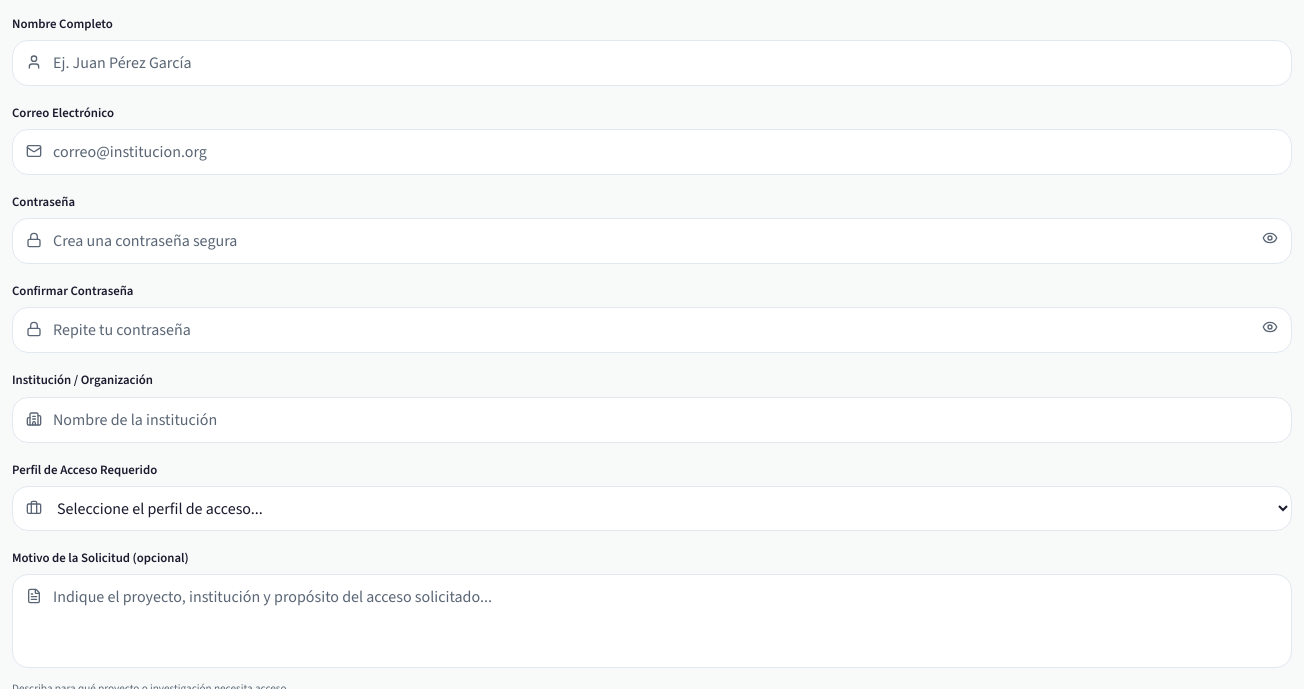
Test case: SolicitarAccesoForm — validación › una contraseña débil es rechazada aunque no esté vacía
Type "abc" into the password field labelled "Contraseña" at {"x": 652, "y": 241}, box [12,218,1292,264]
(page scrolled)
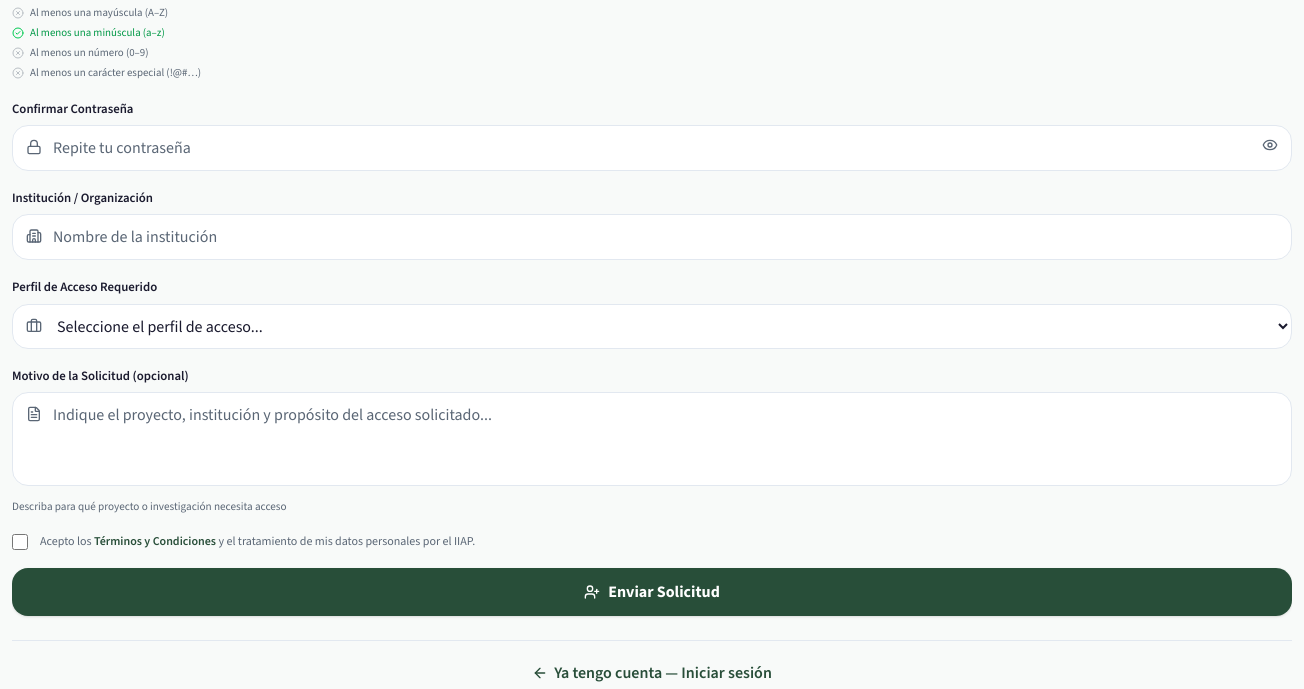
Click the button "Enviar Solicitud" at {"x": 652, "y": 592}, box [12,568,1292,616]
(page scrolled)
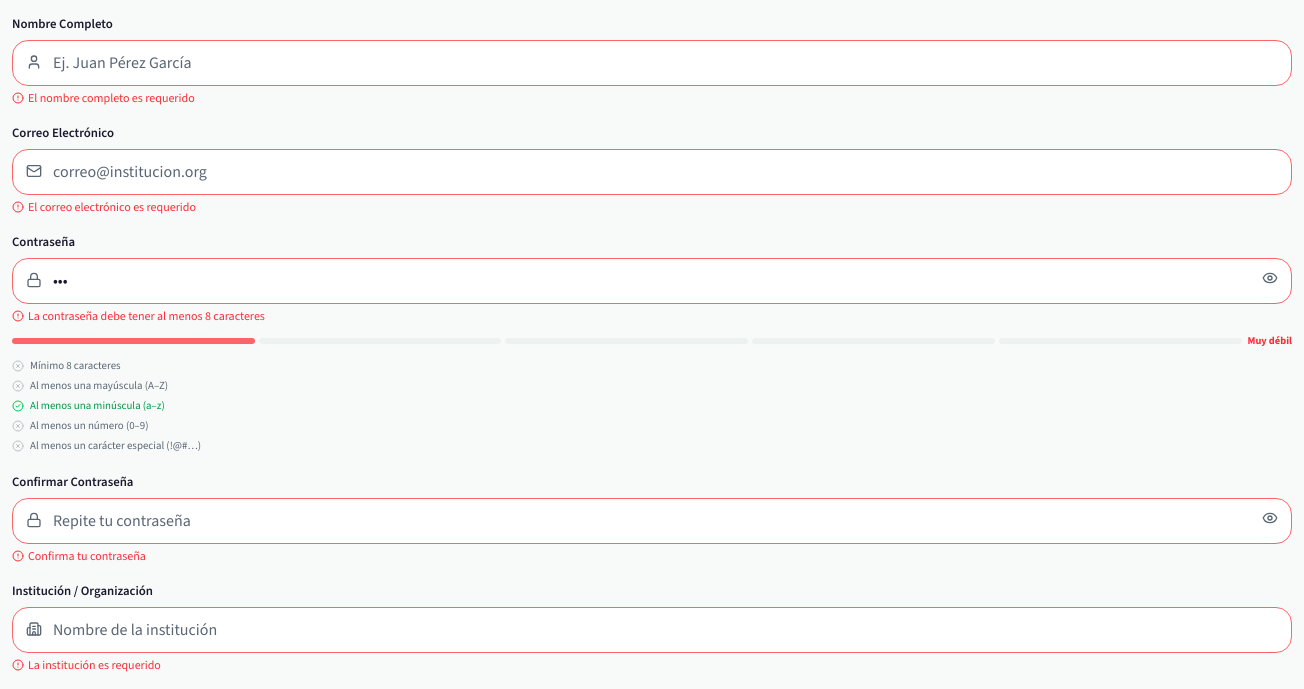
Expected: the text "La contraseña debe tener al menos 8 caracteres" is shown, [12,308,265,324]
